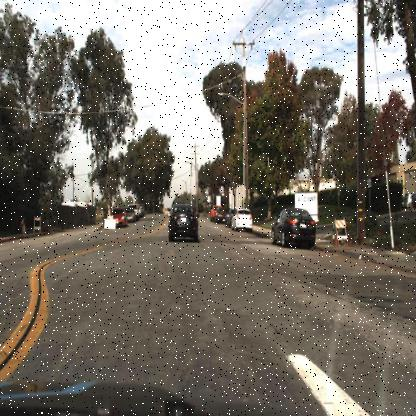car: (269, 203, 318, 250), (164, 199, 202, 245), (167, 201, 199, 241), (229, 207, 253, 233), (111, 207, 129, 233), (124, 205, 138, 226)
